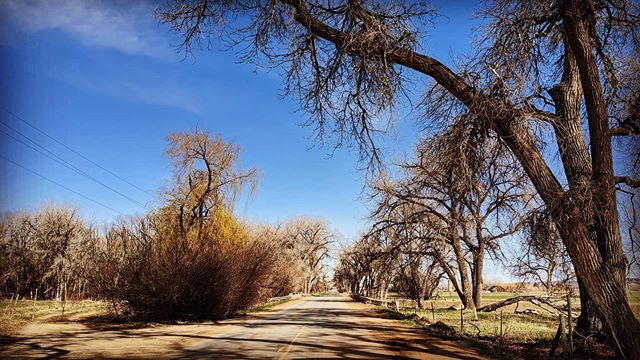road: (160, 285, 390, 360)
sky: (1, 1, 332, 193)
vegetation: (365, 1, 640, 360), (1, 199, 318, 320)
